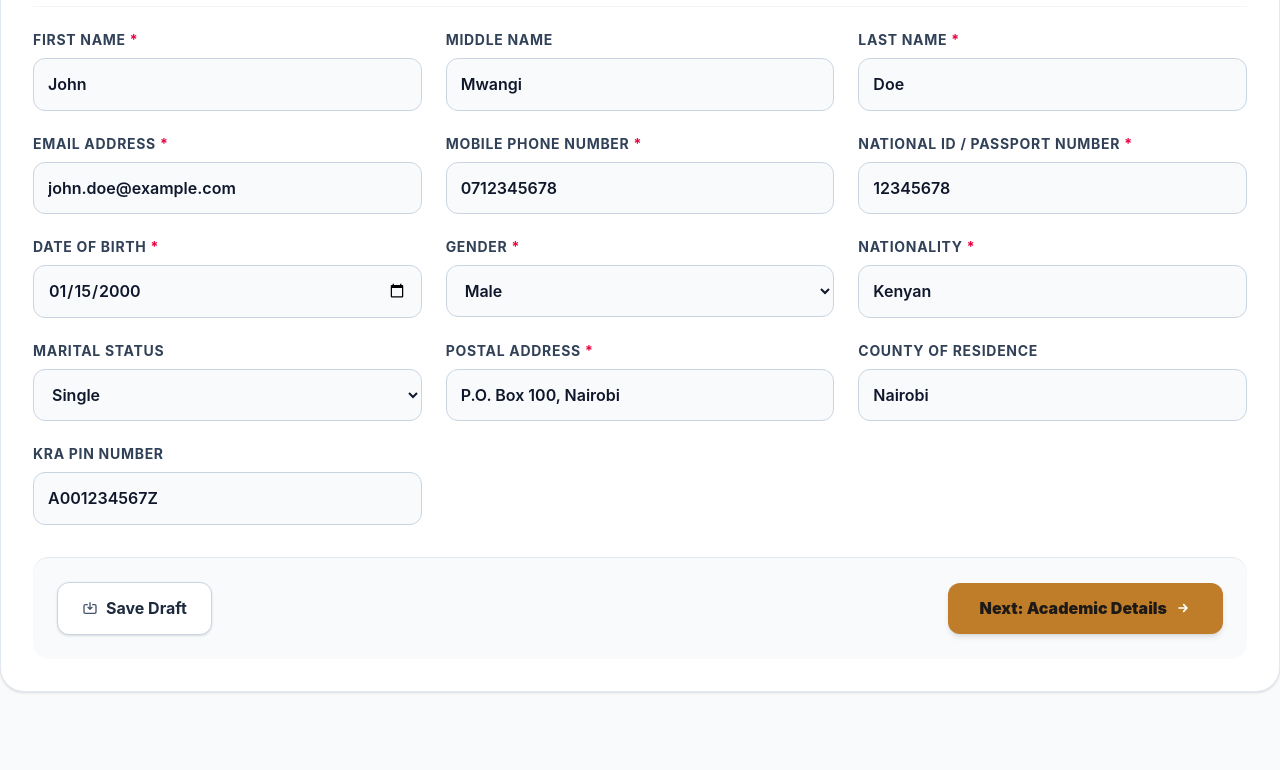
Test: Profile 4-Step Biodata Wizard Component › Academic Standing / Grade Award removal › shows each document label with its own server-supplied size limit
(page scrolled)
expect the field showing "John" below "First Name" is shown: met, box top-left (33, 58), bottom-right (422, 111)
# Advance to Step 4 (Verification Documents).
Click the button "Next: Academic Details" at (1085, 608), box top-left (948, 583), bottom-right (1223, 634)
(page scrolled)
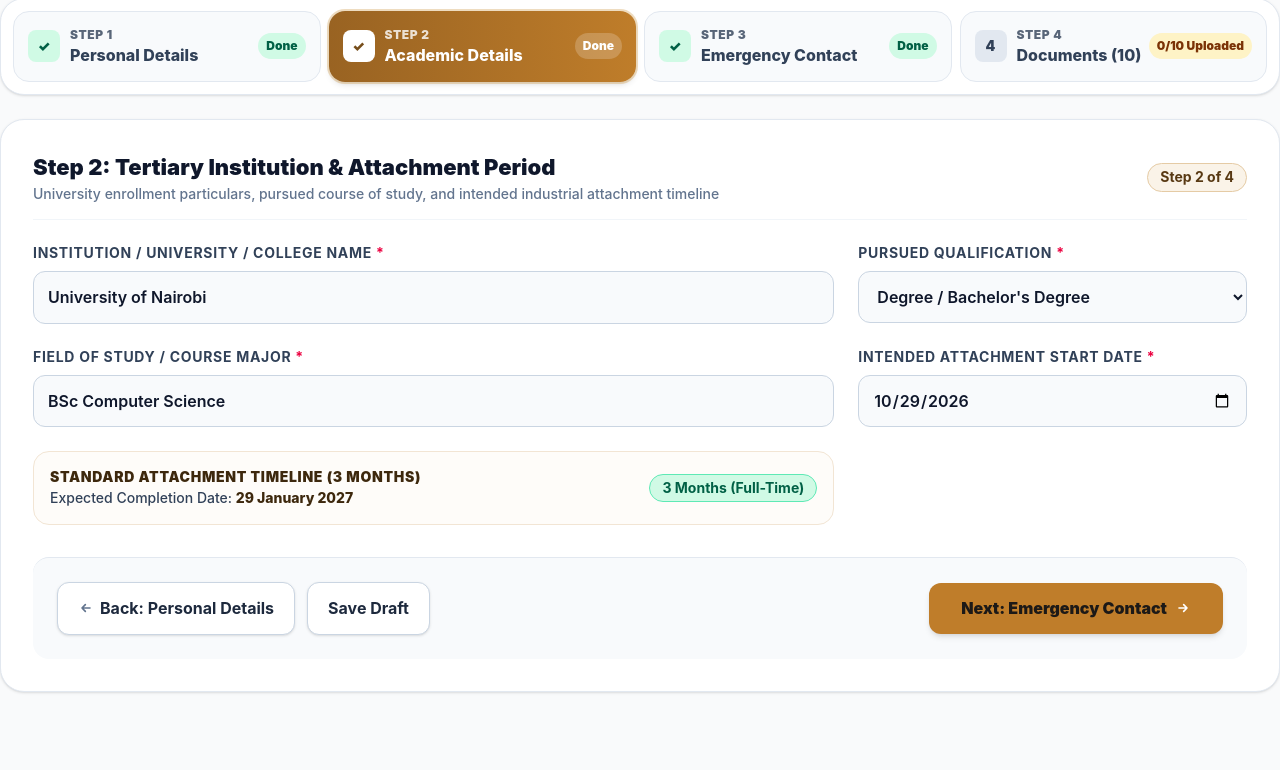
expect the field showing "University of Nairobi" below "Institution / University / College Name" is shown: met, box top-left (33, 271), bottom-right (834, 324)
Click the button "Next: Emergency Contact" at (1076, 608), box top-left (929, 583), bottom-right (1223, 634)
(page scrolled)
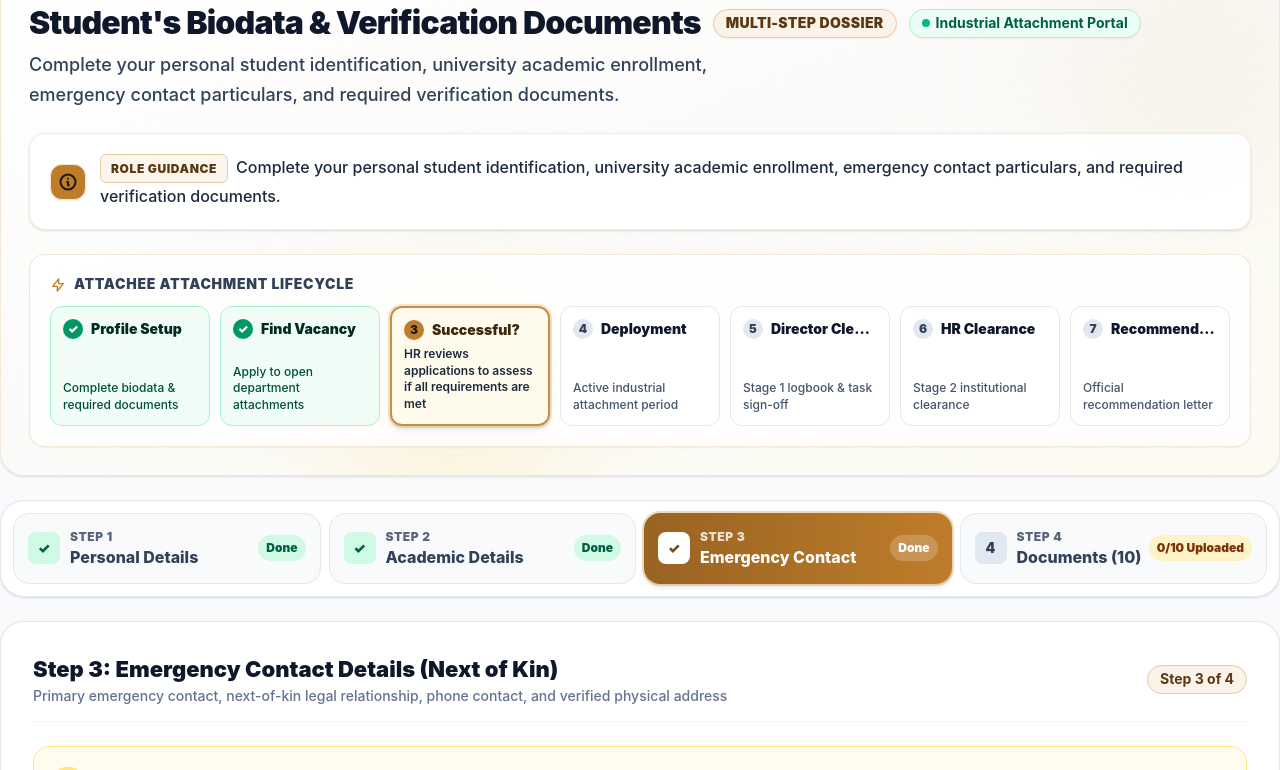
Click the button "4 Step 4 Documents (10) 0/10 Uploaded" at (1113, 548), box top-left (960, 513), bottom-right (1267, 584)
(page scrolled)
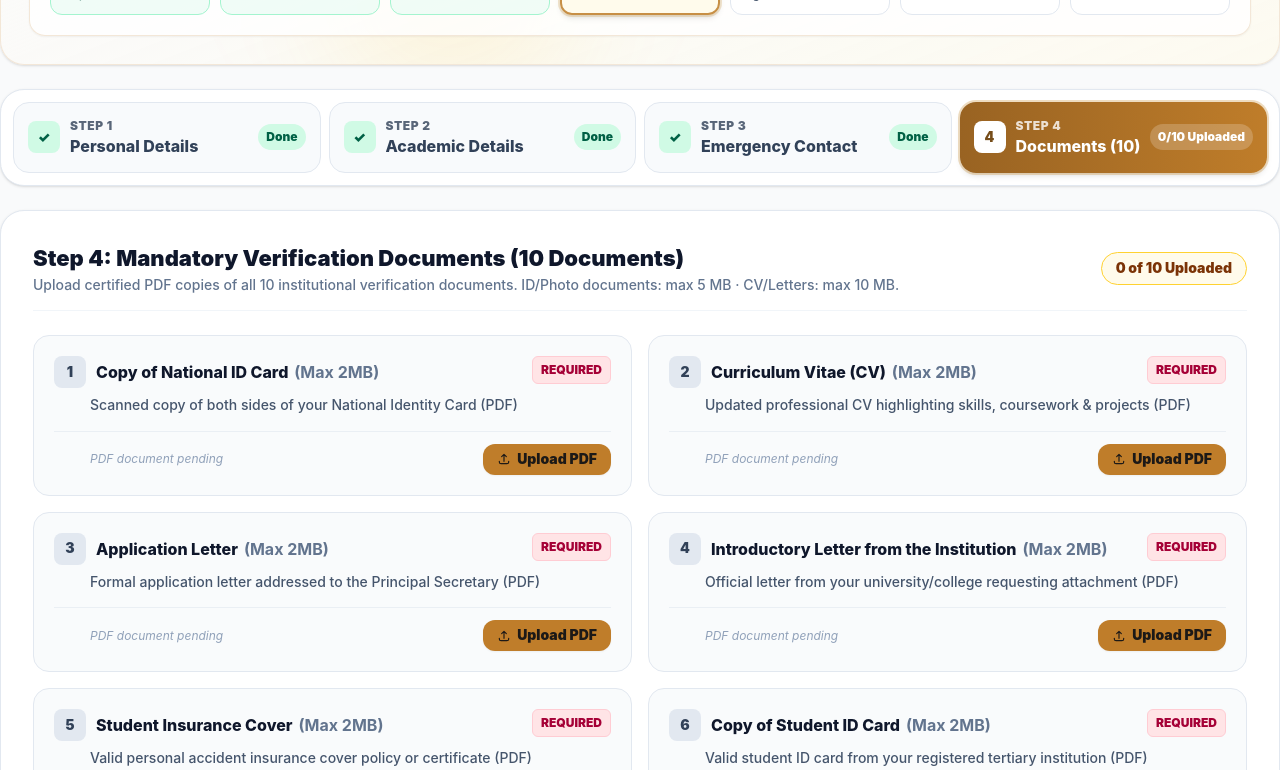
expect the heading "Copy of National ID Card(Max 2MB)" is shown: met, box top-left (96, 361), bottom-right (379, 383)
expect the text "(Max 2MB)" is shown 10 times: met
expect the heading "Curriculum Vitae (CV)(Max 2MB)" is shown: met, box top-left (711, 361), bottom-right (977, 383)
